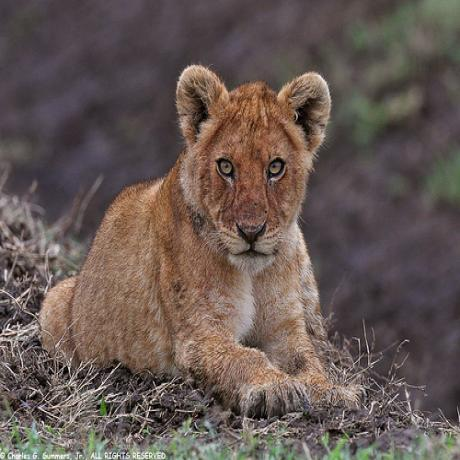Lion: (42, 63, 334, 414)
